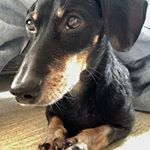puppy: (9, 3, 150, 114)
